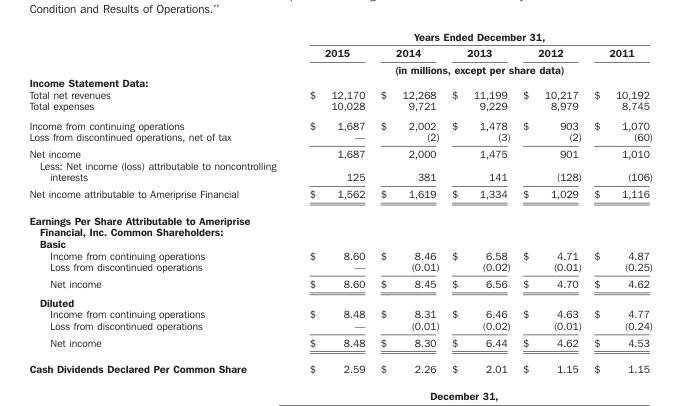table: (28, 29, 652, 374)
table column: (28, 29, 292, 374), (292, 29, 372, 374), (372, 29, 444, 374), (444, 29, 516, 374), (516, 29, 587, 374), (587, 29, 652, 374)
table column header: (28, 29, 652, 75)
table projected row header: (28, 206, 652, 237), (28, 292, 652, 307), (28, 75, 652, 88), (28, 237, 652, 248)
table row: (28, 206, 652, 237), (28, 159, 652, 185), (28, 333, 652, 355), (28, 185, 652, 206), (28, 355, 652, 374), (28, 274, 652, 292), (28, 44, 652, 60), (28, 99, 652, 115), (28, 29, 652, 44), (28, 60, 652, 75), (28, 115, 652, 130), (28, 144, 652, 159), (28, 292, 652, 307), (28, 130, 652, 144), (28, 260, 652, 274), (28, 319, 652, 333), (28, 75, 652, 88), (28, 248, 652, 260), (28, 307, 652, 319), (28, 88, 652, 99), (28, 237, 652, 248)
table spanning cell: (292, 29, 652, 44), (292, 60, 652, 75)
